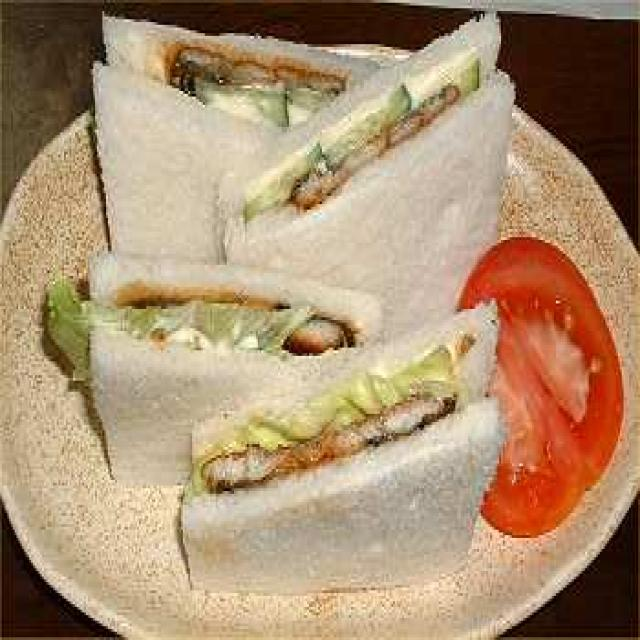三明治: (93, 11, 492, 588)
